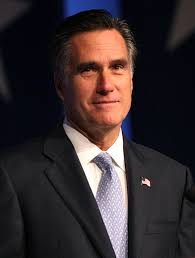person: (53, 9, 134, 130)
